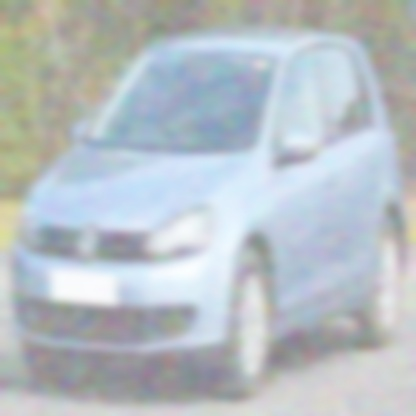Vehicle: (12, 38, 411, 410)
